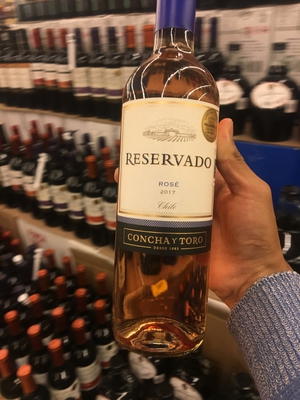reservado rose: (115, 15, 232, 361)
